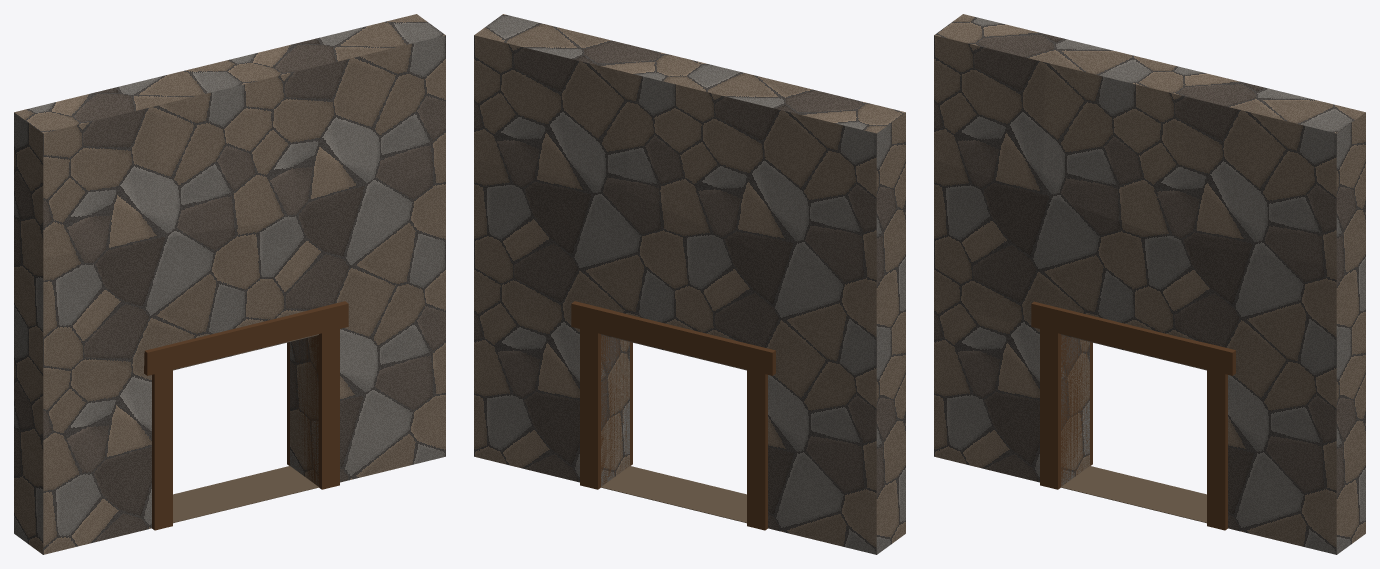
The model's file is mine_wall_low_tunnel.glb.
3 views of the same model, side by side, from view 1: azimuth 30°, elevation 25°; view 2: azimuth 150°, elevation 25°; view 3: azimuth 330°, elevation 25° (orthographic).
Parts seen in each view (by area): view 1: mine_wall_low_tunnel; view 2: mine_wall_low_tunnel; view 3: mine_wall_low_tunnel.
Part boxes in pixels (<box>): mine_wall_low_tunnel: <box>14,14,445,554</box>; mine_wall_low_tunnel: <box>474,14,905,554</box>; mine_wall_low_tunnel: <box>934,14,1365,554</box>.
Bounding box in the file's own units: 4 × 4 × 0.6217.
4 materials, 1 textured.
